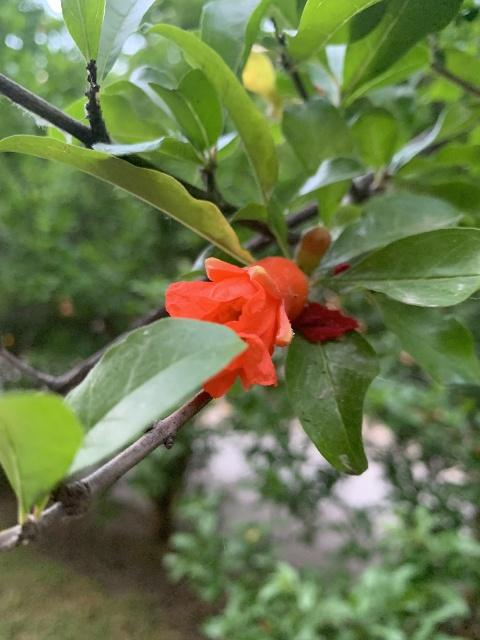bud: (296, 226, 331, 272)
flower: (165, 255, 307, 397)
